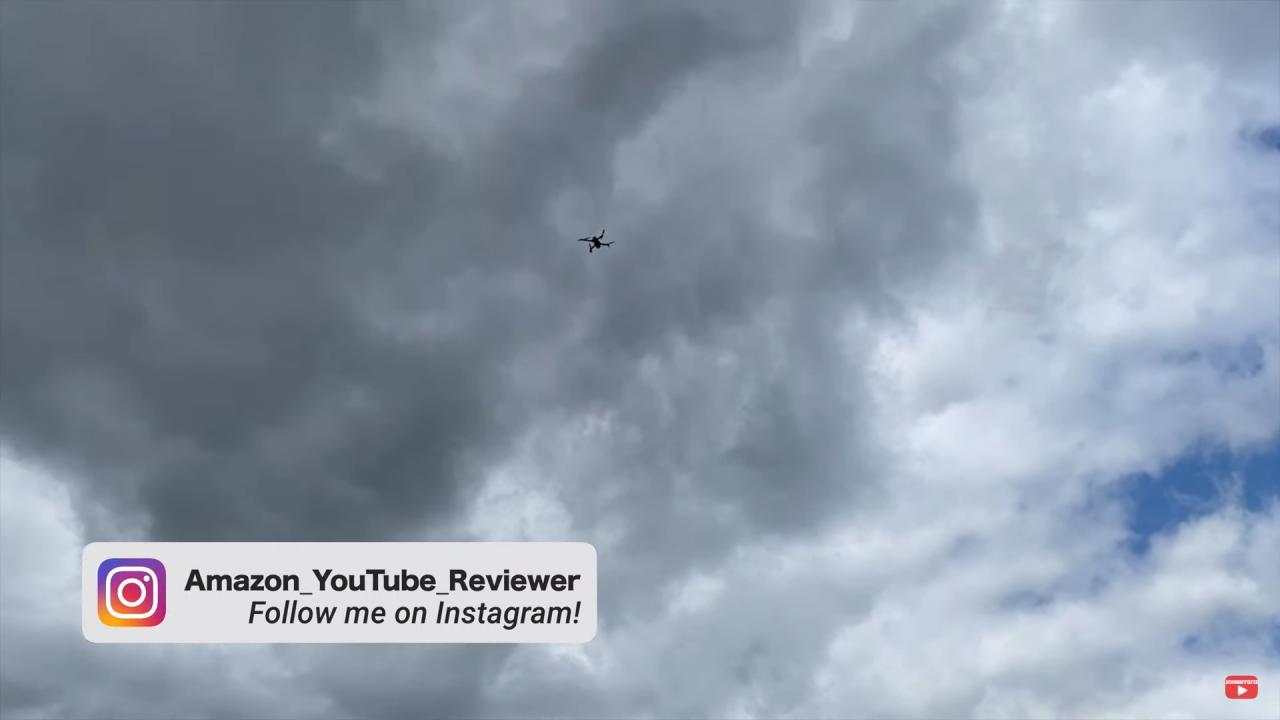Drone: (565, 221, 627, 265)
